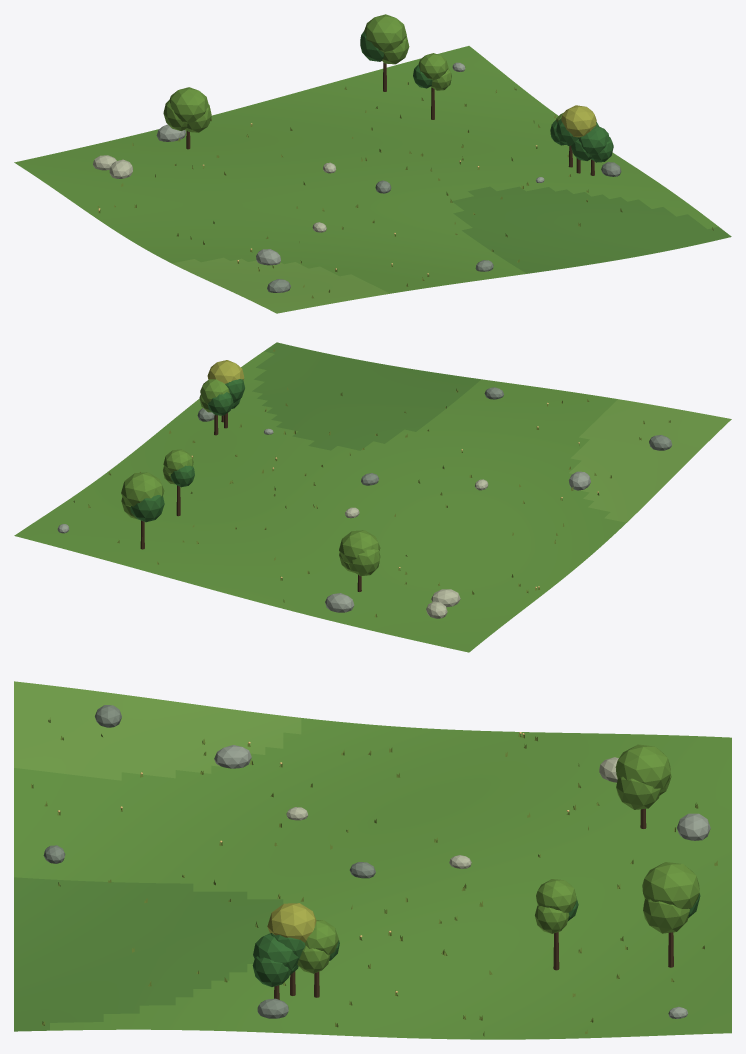
File: Chunk_X-1_Y0_Z3.fbx
3 renders of one model, top to bottom at view 1: azimuth 30°, elevation 25°; view 2: azimuth 150°, elevation 25°; view 3: azimuth 270°, elevation 25°, orthographic. The views are drawn at different scales.
Parts seen in each view (by area): view 1: Terrain.020, Canopies.020, Rocks.020, GroundCover.020, Trunks.020; view 2: Terrain.020, Canopies.020, Rocks.020, GroundCover.020; view 3: Terrain.020, Canopies.020, Rocks.020, GroundCover.020, Trunks.020.
Boxes of the visible parts, left/top/right/bottom form: Terrain.020: left=14, top=46, right=731, bottom=313; Canopies.020: left=163, top=14, right=613, bottom=162; Rocks.020: left=93, top=62, right=621, bottom=292; GroundCover.020: left=97, top=82, right=713, bottom=298; Trunks.020: left=186, top=62, right=594, bottom=175; Terrain.020: left=14, top=342, right=731, bottom=652; Canopies.020: left=121, top=360, right=380, bottom=576; Rocks.020: left=57, top=387, right=672, bottom=618; GroundCover.020: left=73, top=348, right=670, bottom=617; Terrain.020: left=14, top=681, right=731, bottom=1039; Canopies.020: left=252, top=744, right=700, bottom=986; Rocks.020: left=43, top=705, right=710, bottom=1018; GroundCover.020: left=31, top=717, right=717, bottom=1036; Trunks.020: left=274, top=809, right=673, bottom=999.
Bounding box in the file's own units: 100 × 17.36 × 100.
